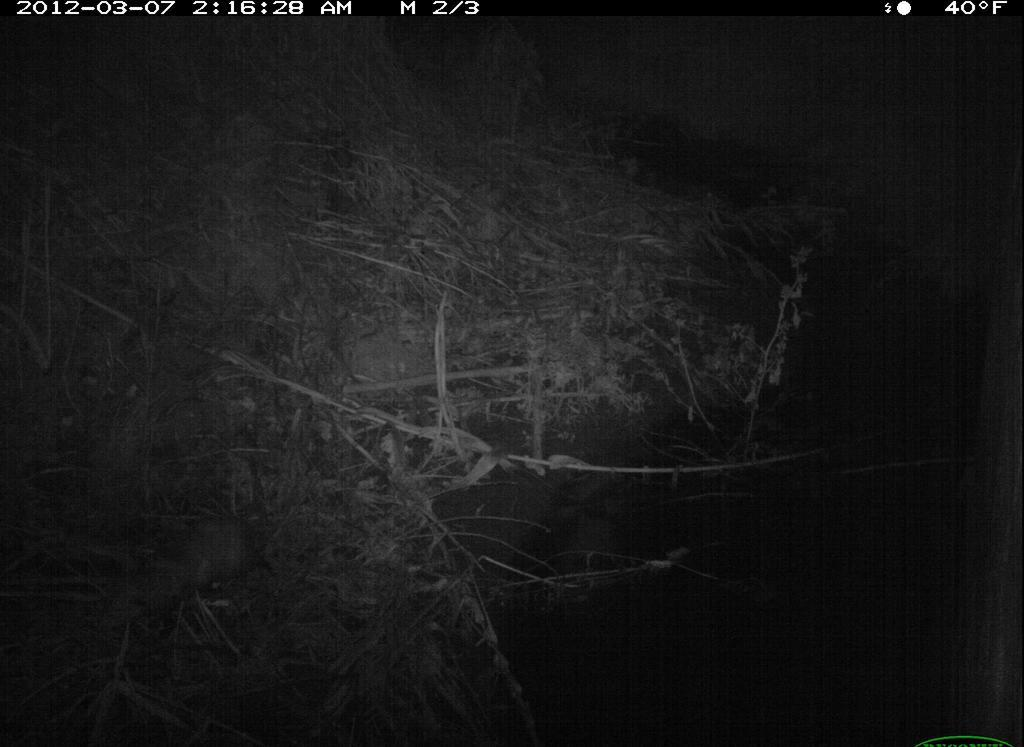opossum: (79, 518, 290, 644)
